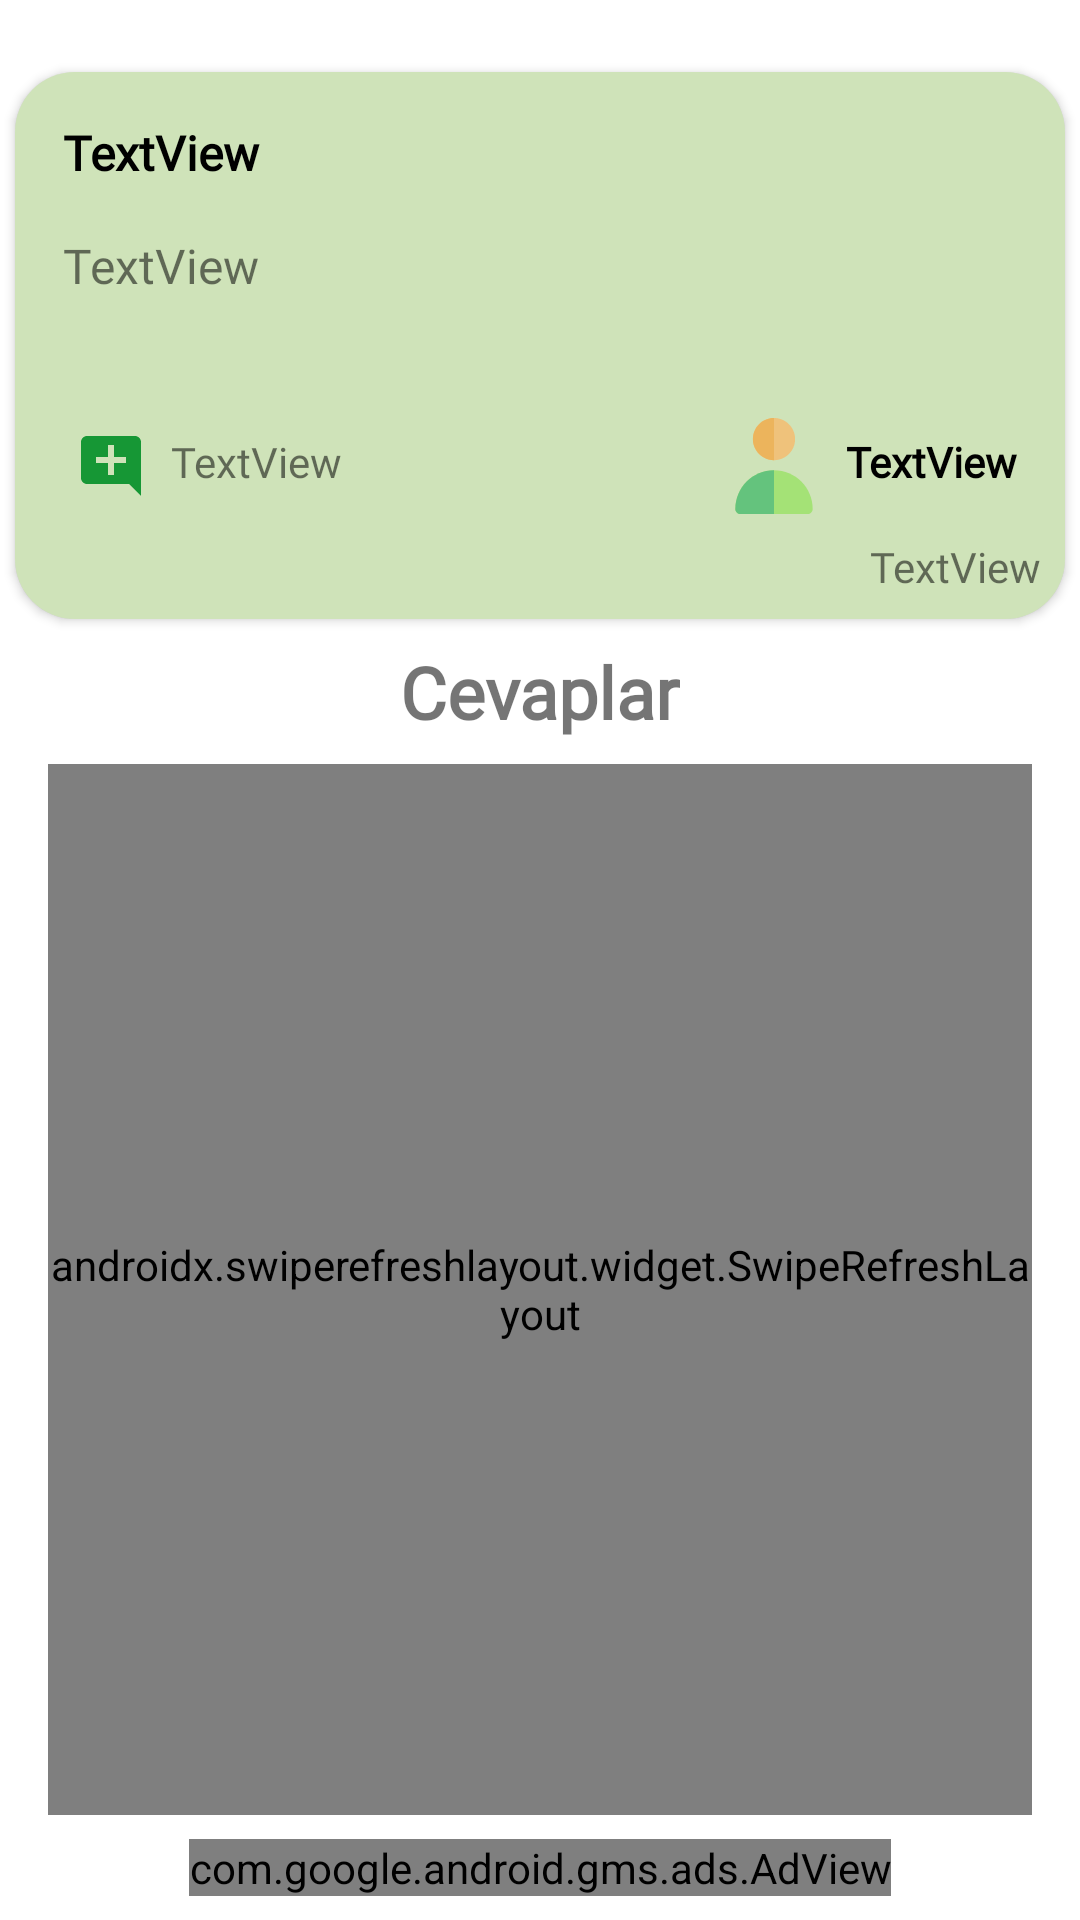

Screen size 1080x1920. Icon name, then its box in pixels as (x1, y1, x2, y2):
add comment: (81, 436, 141, 496)
user profile: (735, 418, 813, 514)
